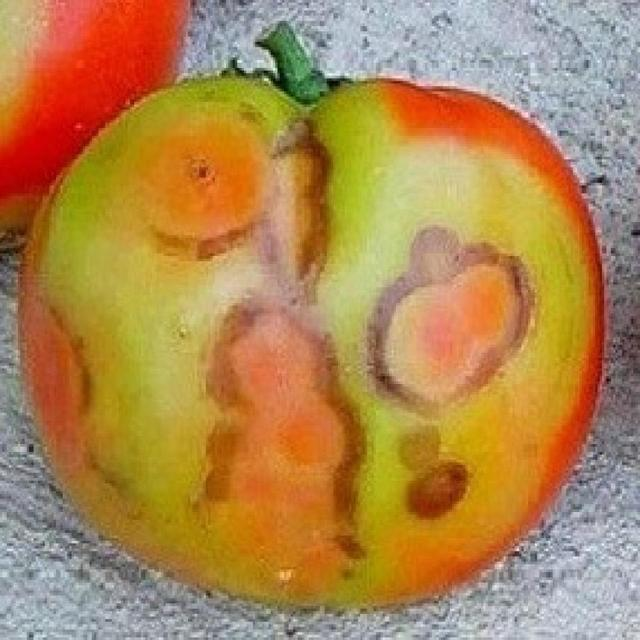Spotted wilt Virus Fruit: (7, 60, 22, 281)
